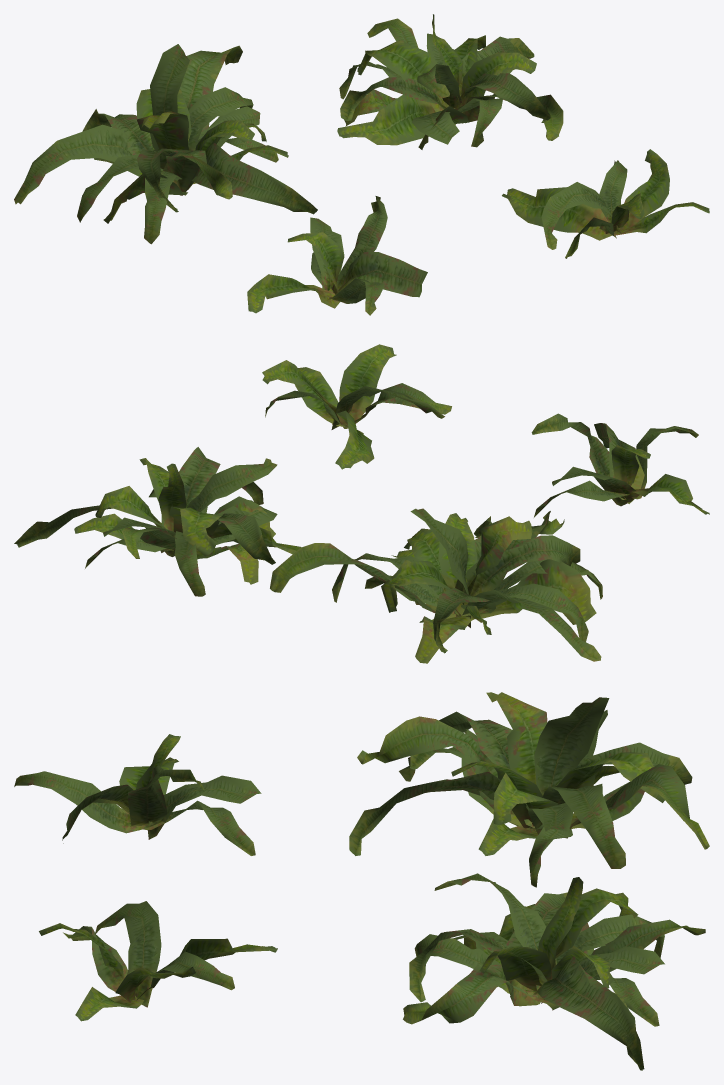
Rendered from fern_02.glb.
3 views of the same model, one above another, from view 1: azimuth 30°, elevation 25°; view 2: azimuth 150°, elevation 25°; view 3: azimuth 270°, elevation 25° (orthographic). The views are drawn at different scales.
Parts seen in each view (by area): view 1: fern_02_b; view 2: fern_02_b; view 3: fern_02_b.
Part boxes in pixels (<box>): fern_02_b: <box>14,14,709,315</box>; fern_02_b: <box>14,344,709,663</box>; fern_02_b: <box>14,692,709,1070</box>.
Bounding box in the file's own units: 1.97 × 0.4276 × 1.72.
1 material, 1 textured.
